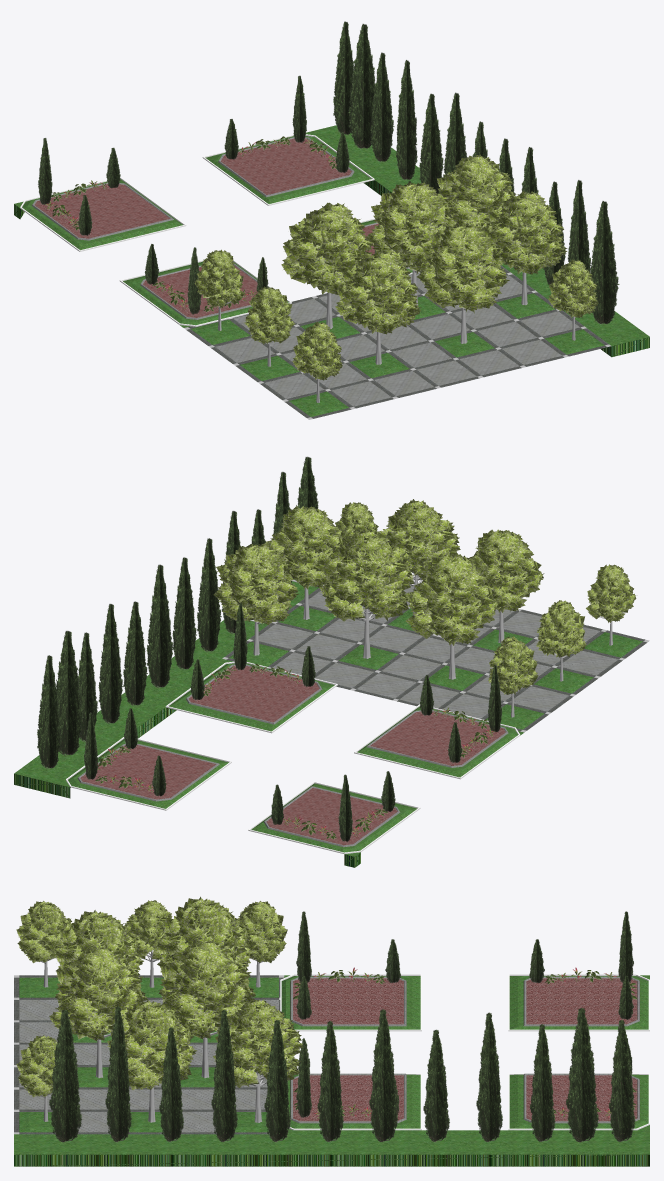
Rendered from KBH_Exterior_landscaping.gltf.
The picture shows the model from 3 angles, top to bottom: view 1: azimuth 30°, elevation 25°; view 2: azimuth 150°, elevation 25°; view 3: azimuth 270°, elevation 25°; orthographic projection. The views are drawn at different scales.
Parts seen in each view (by area): view 1: Line21886, Line21916, Line21939, tree4_leaves_011, tree4_leaves_015, tree4_leaves_010, tree4_leaves_016, tree4_leaves_017, Line21878, Line21873, Line21858, tree4_leaves_018 (+20 smaller); view 2: Line21886, Line21878, tree4_leaves_016, Line21916, tree4_leaves_015, Line21939, tree4_leaves_018, Line21868, tree4_leaves_017, Line21863, tree4_leaves_010, Line21873 (+23 smaller); view 3: Line21878, Line21886, tree4_leaves_016, tree4_leaves_011, Line21916, Line21863, Line21858, tree4_leaves_017, tree4_leaves_018, tree4_leaves_015, Line21939, tree4_leaves_010 (+74 smaller).
Part boxes in pixels (box(x1,y1,x2,y2)): Line21886: box(215, 272, 579, 406); Line21916: box(191, 293, 604, 416); Line21939: box(186, 265, 608, 418); tree4_leaves_011: box(416, 224, 509, 313); tree4_leaves_015: box(281, 202, 373, 294); tree4_leaves_010: box(335, 250, 421, 334); tree4_leaves_016: box(365, 182, 455, 274); tree4_leaves_017: box(482, 191, 567, 274); Line21878: box(309, 125, 649, 357); Line21873: box(220, 138, 351, 194); Line21858: box(34, 184, 169, 238); tree4_leaves_018: box(437, 154, 516, 230); Line21886: box(254, 585, 618, 718); Line21878: box(14, 579, 318, 795); tree4_leaves_016: box(319, 529, 413, 621); Line21916: box(229, 606, 642, 729); tree4_leaves_015: box(405, 553, 499, 645); Line21939: box(225, 584, 646, 731); tree4_leaves_018: box(213, 543, 298, 626); Line21868: box(189, 665, 319, 722); tree4_leaves_017: box(265, 506, 346, 589); Line21863: box(370, 711, 505, 765); tree4_leaves_010: box(468, 529, 544, 612); Line21873: box(80, 745, 215, 799); Line21878: box(14, 1128, 649, 1166); Line21886: box(19, 1000, 278, 1132); tree4_leaves_016: box(158, 939, 255, 1039); tree4_leaves_011: box(49, 946, 147, 1040); Line21916: box(19, 977, 278, 1132); Line21863: box(293, 978, 403, 1024); Line21858: box(526, 978, 637, 1024); tree4_leaves_017: box(107, 999, 197, 1090); tree4_leaves_018: box(212, 998, 303, 1088); tree4_leaves_015: box(155, 896, 254, 979); Line21939: box(14, 975, 283, 1134); tree4_leaves_010: box(54, 910, 143, 971).
Size of the model in its own units: 32 by 12.6 by 48.
